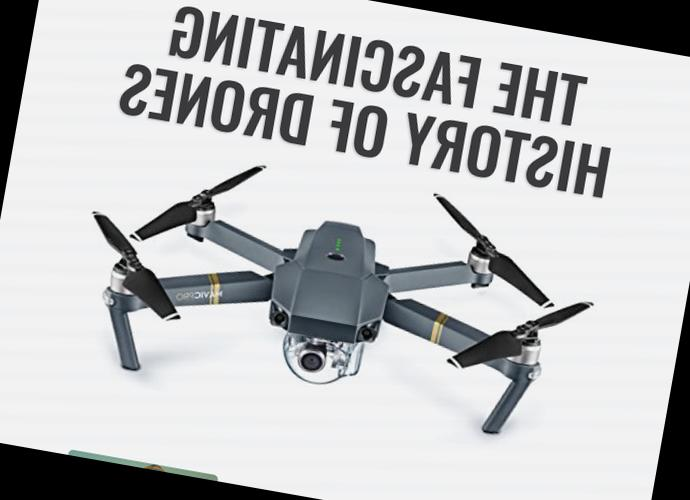drone: (64, 135, 604, 456)
